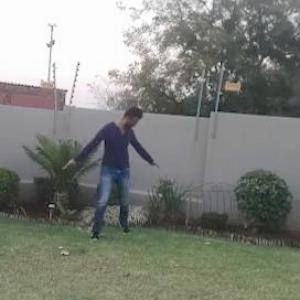land: (60, 103, 171, 248)
